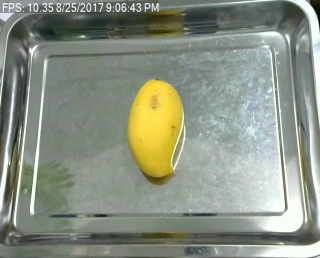Mango: (123, 73, 187, 178)
